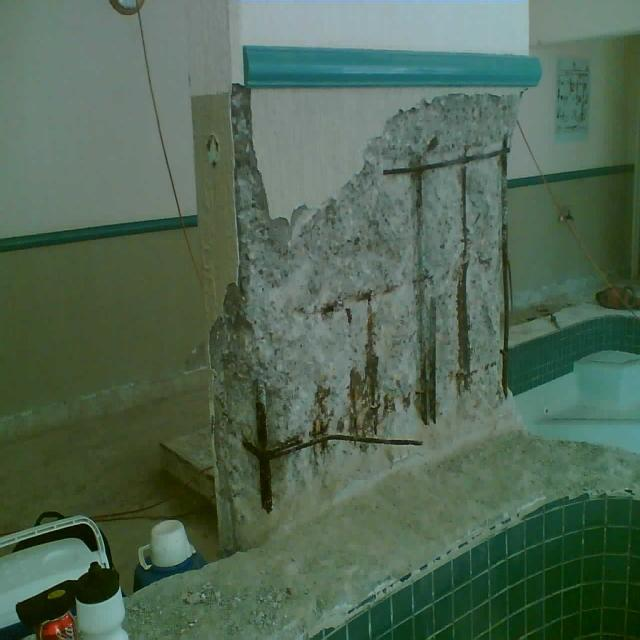spalling: (211, 91, 517, 549), (270, 441, 417, 501)
